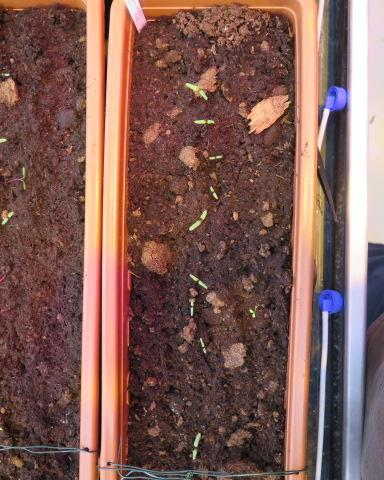crop: (186, 205, 209, 231), (182, 79, 207, 100), (187, 270, 209, 289), (189, 430, 200, 462), (208, 182, 219, 203), (192, 116, 217, 125), (197, 335, 207, 356), (205, 151, 225, 160), (187, 294, 194, 319)
